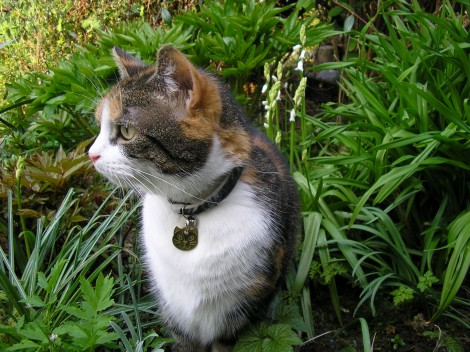cat: (91, 47, 308, 351)
